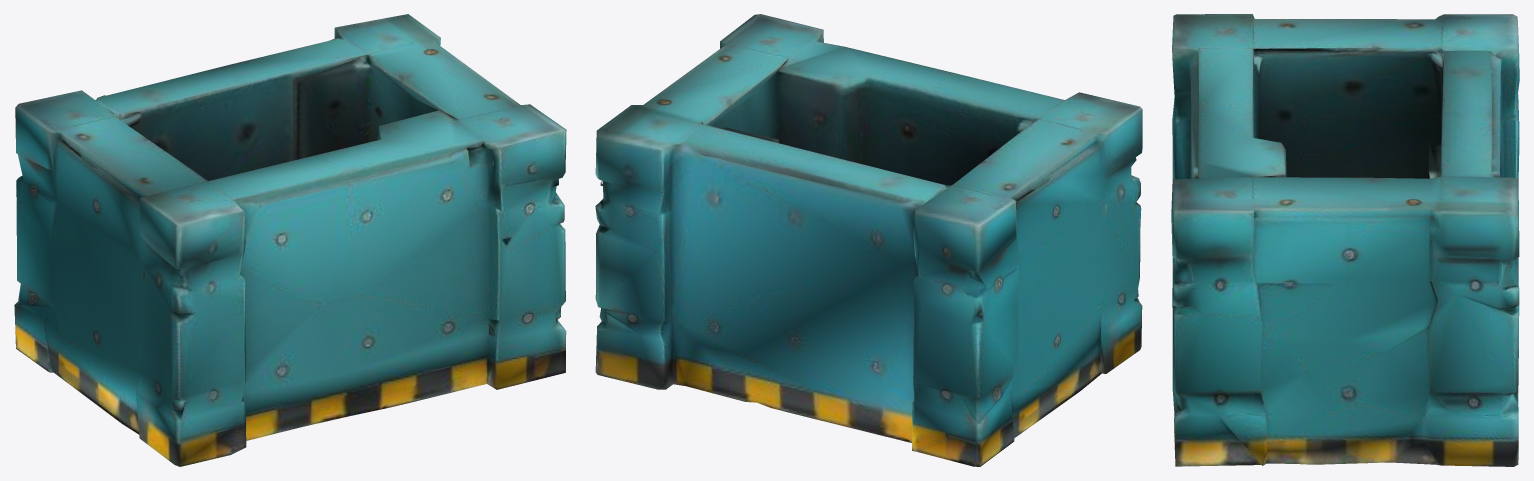
File: wall-corner.glb
3 views of the same model, side by side, from view 1: azimuth 30°, elevation 25°; view 2: azimuth 150°, elevation 25°; view 3: azimuth 270°, elevation 25° (orthographic). The views are drawn at different scales.
Visible parts, largest first — view 1: Mesh_0; view 2: Mesh_0; view 3: Mesh_0.
Boxes of the visible parts, x1=… form: Mesh_0: x1=14, y1=14, x2=566, y2=466; Mesh_0: x1=595, y1=14, x2=1142, y2=466; Mesh_0: x1=1171, y1=14, x2=1519, y2=466.
Bounding box in the file's own units: 3.71 × 2.2 × 2.73.
Materials: 1 (1 with a texture image).
